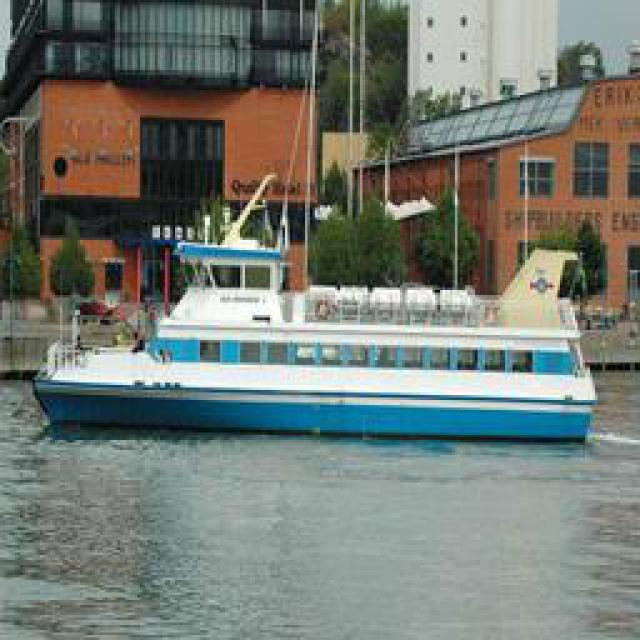Ship: (31, 252, 594, 450)
